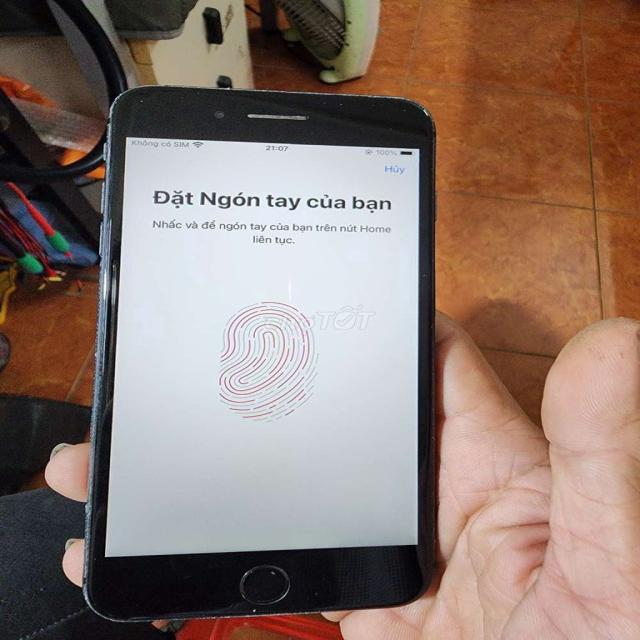scratch: (126, 82, 423, 134), (90, 238, 118, 466), (169, 602, 372, 626), (82, 477, 112, 593), (257, 563, 325, 598), (419, 100, 447, 126), (412, 264, 434, 285)
